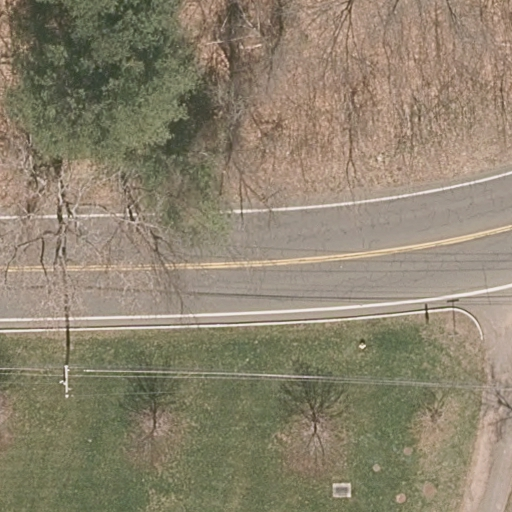DT: (59, 344, 72, 397)
